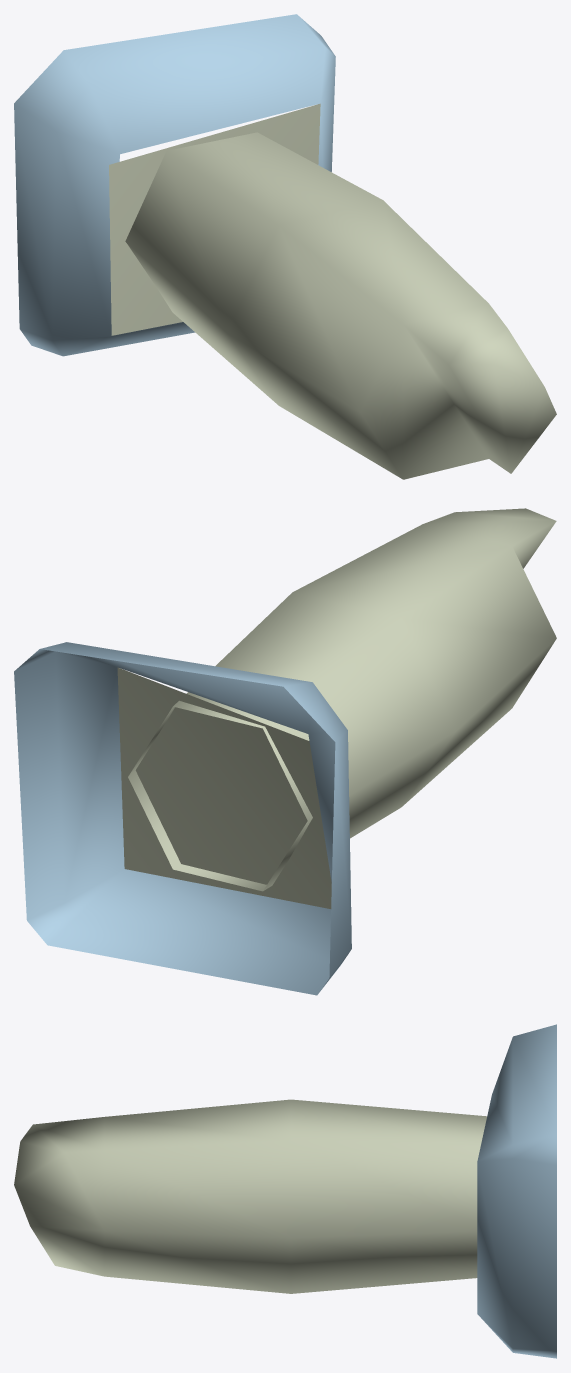
The picture shows the model from 3 angles, top to bottom: view 1: azimuth 30°, elevation 25°; view 2: azimuth 150°, elevation 25°; view 3: azimuth 270°, elevation 25°; orthographic projection. The views are drawn at different scales.
Parts seen in each view (by area): view 1: Object39; view 2: Object39; view 3: Object39.
Part boxes in pixels (x1=…): Object39: x1=14, y1=14, x2=556, y2=479; Object39: x1=14, y1=508, x2=556, y2=995; Object39: x1=14, y1=1024, x2=556, y2=1358.
Bounding box in the file's own units: 796 × 748 × 1503.
